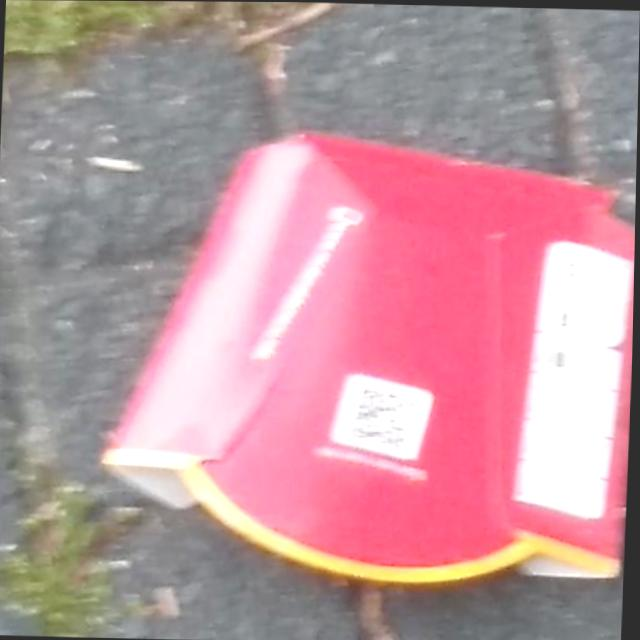Paper: (93, 118, 638, 598)
